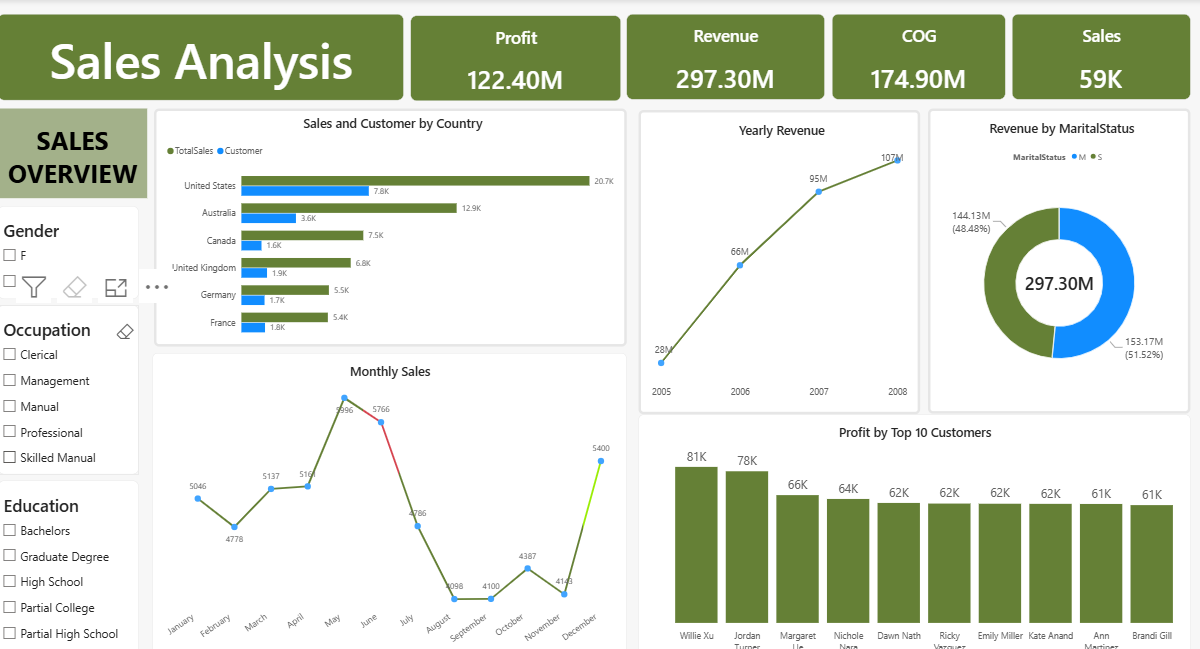

The dashboard page shown, as its layout file describes it:
{"tool":"powerbi","page":{"name":"Sales Analysis","canvas":[1920,1080],"ordinal":1},"visuals":[{"type":"cardVisual","title":"Profit","fields":{"Data":["SalesTable.Profit"]},"box":[665.4,25.5,334.5,136.1],"z":0},{"type":"cardVisual","title":"Revenue","fields":{"Data":["SalesTable.TotalRevenue"]},"box":[1010.4,25,315,136.2],"z":1000},{"type":"cardVisual","title":"COG","fields":{"Data":["SalesTable.TotalCostOfGoods"]},"box":[1335.8,25,276.2,136.2],"z":2000},{"type":"cardVisual","title":"Sales","fields":{"Data":["SalesTable.Sales","SalesTable.Sales"]},"box":[1622.5,25,283.8,136.2],"z":3000},{"type":"textbox","title":"Sales Analysis","box":[10,25,645,137.5],"z":4000},{"type":"clusteredBarChart","title":"Sales and Customer  by Country","fields":{"Category":["Territory.SalesTerritoryCountry"],"Y":["SalesTable.Sales","CountNonNull(Customer.CustomerKey)"]},"box":[258.3,175,751.7,378.3],"z":5000},{"type":"slicer","fields":{"Values":["Customer.Gender"]},"box":[9.5,329.3,224.3,147.9],"z":6000},{"type":"slicer","fields":{"Values":["Customer.Occupation"]},"box":[9.5,486.7,224.3,269.6],"z":7000},{"type":"slicer","fields":{"Values":["Customer.Education"]},"box":[9.5,765.9,224.3,295.9],"z":8000},{"type":"actionButton","box":[10,175,237.5,142.5],"z":9000},{"type":"lineChart","title":"Monthly Sales","fields":{"Category":["SalesTable.DueDate.Variation.Date Hierarchy.Month"],"Y":["SalesTable.TotalSales"]},"box":[255,562.5,753.9,496.3],"z":10000},{"type":"lineChart","title":"Yearly Revenue  ","fields":{"Category":["SalesTable.DueDate.Variation.Date Hierarchy.Year"],"Y":["SalesTable.TotalRevenue"]},"box":[1028,176,448,484],"z":11000},{"type":"donutChart","title":"Revenue by MaritalStatus","fields":{"Category":["Customer (2).MaritalStatus"],"Y":["SalesTable.TotalRevenue"]},"box":[1490,175,417.5,485],"z":12000},{"type":"clusteredColumnChart","title":"Profit by Top 10 Customers","fields":{"Category":["Customer.FullName"],"Y":["SalesTable.Profit"]},"box":[1028.3,660.9,878,400.8],"z":13000}]}

Visuals, with their boxes on the page's 1920x1080 design canvas (x1, y1, x2, y2). These are canvas units, not pixel positions in the 1200x649 screenshot, which may show the page scaled, cropped or inside an application window:
"Profit" cardVisual: detection(665, 26, 1000, 162)
"Revenue" cardVisual: detection(1010, 25, 1325, 161)
"COG" cardVisual: detection(1336, 25, 1612, 161)
"Sales" cardVisual: detection(1622, 25, 1906, 161)
"Sales Analysis" textbox: detection(10, 25, 655, 162)
"Sales and Customer  by Country" clusteredBarChart: detection(258, 175, 1010, 553)
slicer - Customer.Gender: detection(10, 329, 234, 477)
slicer - Customer.Occupation: detection(10, 487, 234, 756)
slicer - Customer.Education: detection(10, 766, 234, 1062)
actionButton: detection(10, 175, 248, 318)
"Monthly Sales" lineChart: detection(255, 562, 1009, 1059)
"Yearly Revenue  " lineChart: detection(1028, 176, 1476, 660)
"Revenue by MaritalStatus" donutChart: detection(1490, 175, 1908, 660)
"Profit by Top 10 Customers" clusteredColumnChart: detection(1028, 661, 1906, 1062)
